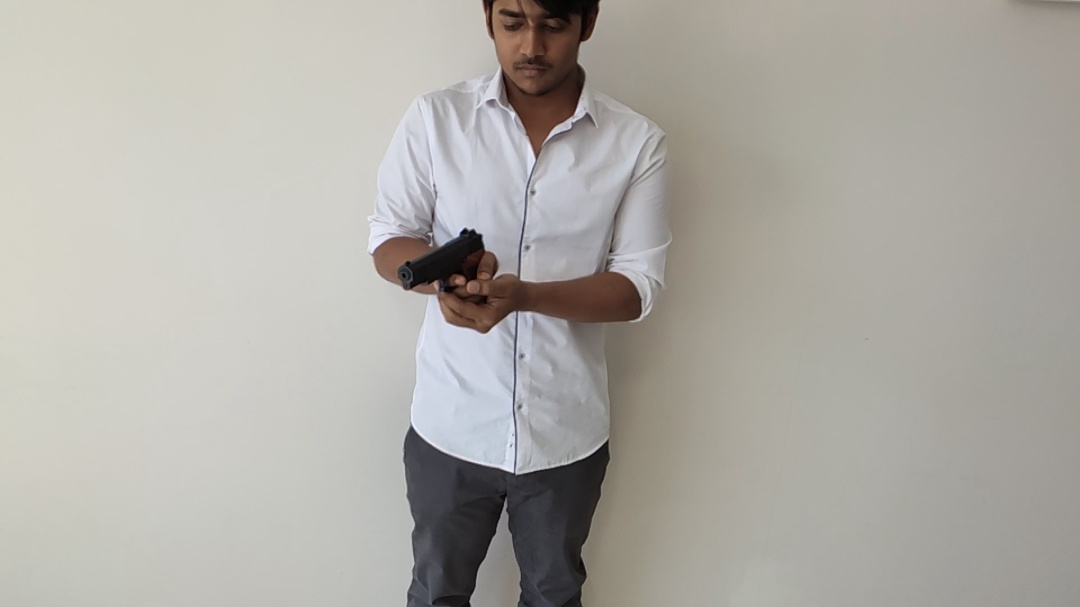gun: (121, 58, 1008, 565)
